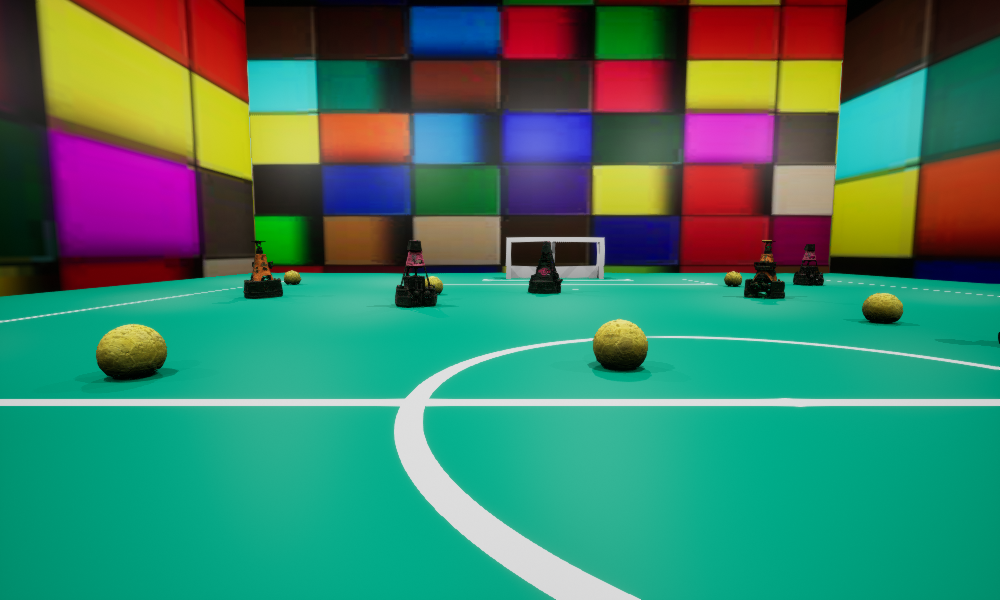b: (96, 324, 166, 378), (593, 319, 647, 369), (862, 293, 902, 322), (425, 276, 442, 294), (724, 271, 741, 285), (284, 270, 300, 284)
o: (744, 240, 784, 298), (243, 240, 282, 298), (998, 332, 999, 343)
p1: (528, 241, 562, 293)
p2: (395, 240, 436, 307), (793, 244, 823, 285)
